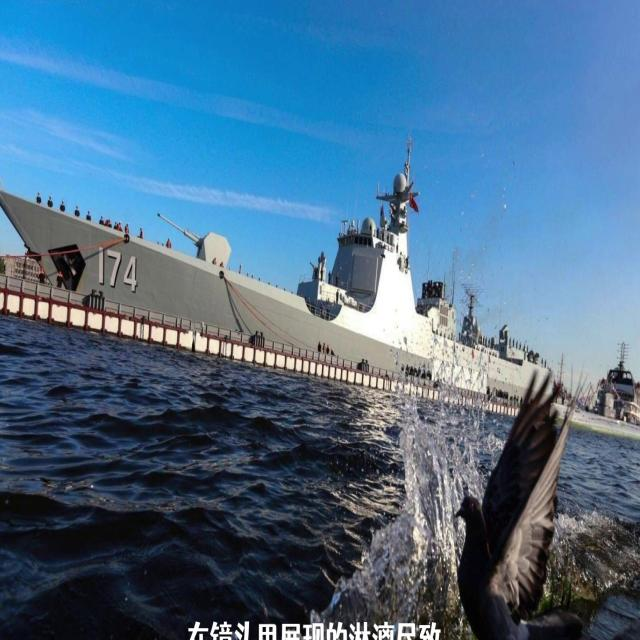navalvessels: (0, 128, 556, 410)
